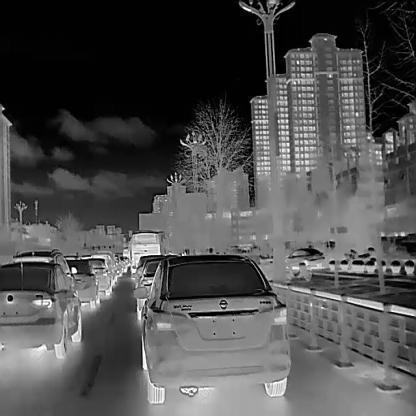car: (131, 249, 291, 404), (0, 255, 83, 358), (59, 254, 100, 308), (129, 229, 162, 273), (82, 254, 112, 295), (283, 246, 325, 269)
